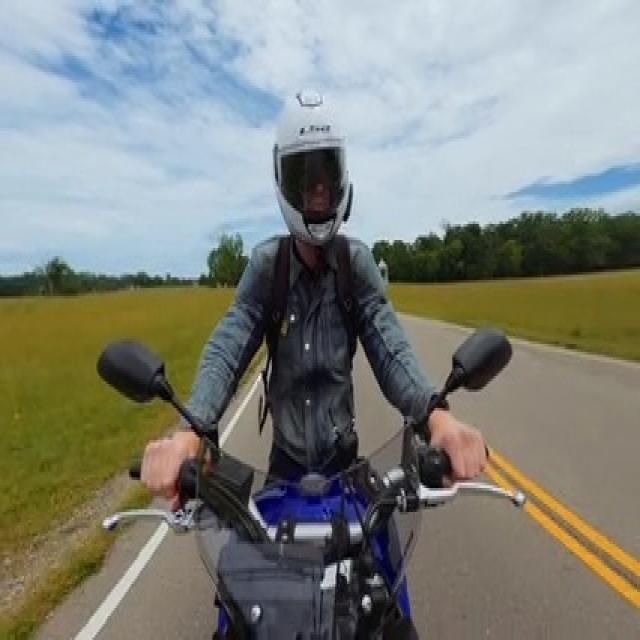Helmet_Wearer: (260, 72, 356, 236)
Person: (168, 68, 482, 491)
